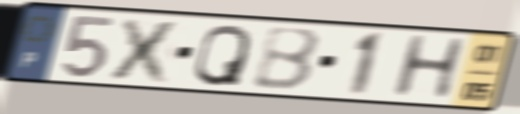1: (349, 29, 391, 100)
5: (56, 14, 121, 80)
B: (250, 26, 324, 94)
H: (386, 32, 471, 100)
Q: (191, 22, 255, 89)
X: (104, 15, 188, 86)
